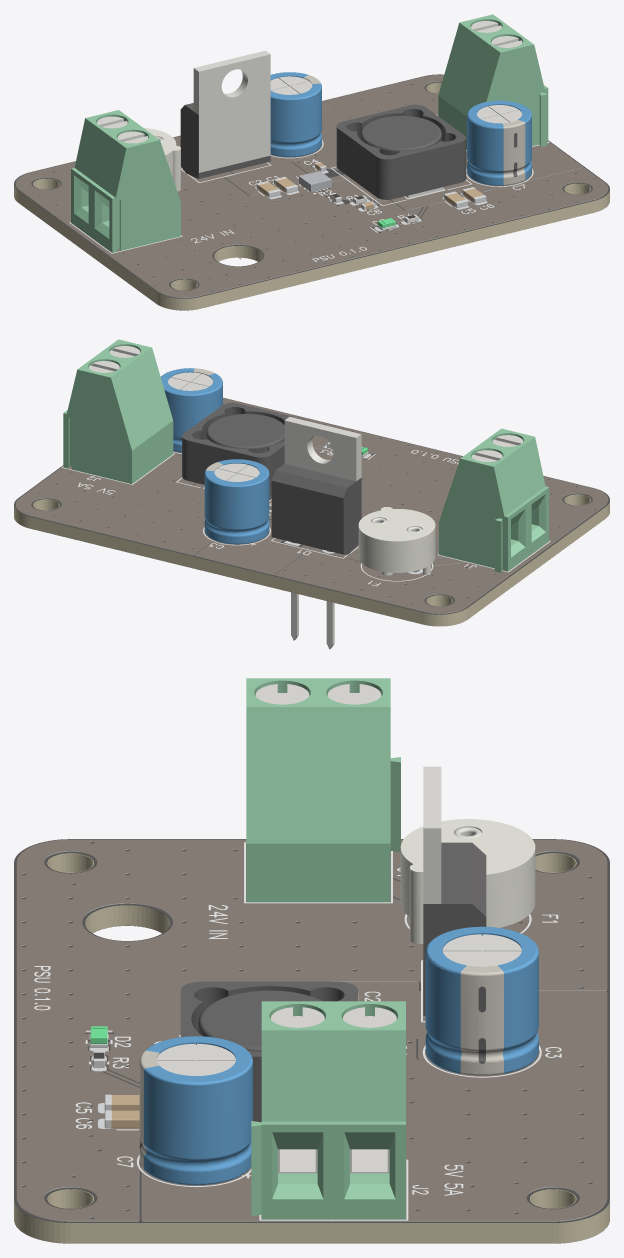
File: psu.glb
3 renders of one model, top to bottom at view 1: azimuth 30°, elevation 25°; view 2: azimuth 150°, elevation 25°; view 3: azimuth 270°, elevation 25°, orthographic. The views are drawn at different scales.
Visible parts, largest first — view 1: F.Mask (×2), part:J1 (×2), part:L1, part:D1 (×2), part:J2 (×2), board, part:C7 (×3), part:C3 (×2), F.Cu, F.SilkS, part:F1, part:U1; view 2: F.Mask (×2), part:J2 (×2), part:J1 (×2), part:D1 (×2), board, part:L1, part:C3 (×2), part:F1, part:C7 (×2), F.SilkS, F.Cu; view 3: F.Mask (×2), part:J1 (×2), part:J2 (×2), board, part:C7 (×3), part:C3 (×3), part:F1, part:L1, part:D1 (×2), F.SilkS, F.Cu.
Boxes of the visible parts, x1,y1,x2,y2 form: F.Mask (×2): [14, 74, 609, 298]; part:J1 (×2): [71, 110, 180, 252]; part:L1: [336, 104, 466, 199]; part:D1 (×2): [180, 50, 270, 259]; part:J2 (×2): [438, 14, 548, 149]; board: [14, 82, 609, 310]; part:C7 (×3): [467, 100, 531, 185]; part:C3 (×2): [270, 72, 321, 157]; F.Cu: [19, 81, 602, 297]; F.SilkS: [69, 114, 549, 262]; part:F1: [144, 128, 180, 191]; part:U1: [299, 171, 331, 191]; F.Mask (×2): [14, 397, 609, 614]; part:J2 (×2): [63, 339, 173, 483]; part:J1 (×2): [439, 428, 548, 572]; part:D1 (×2): [271, 416, 361, 649]; board: [14, 494, 609, 626]; part:L1: [182, 402, 309, 496]; part:C3 (×2): [204, 459, 269, 544]; part:F1: [358, 507, 435, 575]; part:C7 (×2): [160, 368, 222, 452]; F.SilkS: [62, 449, 550, 586]; F.Cu: [17, 403, 606, 613]; F.Mask (×2): [14, 839, 609, 1222]; part:J1 (×2): [246, 678, 400, 902]; part:J2 (×2): [251, 1001, 405, 1219]; board: [14, 853, 609, 1243]; part:C7 (×3): [139, 1036, 252, 1185]; part:C3 (×3): [425, 926, 538, 1075]; part:F1: [400, 819, 535, 943]; part:L1: [180, 981, 357, 1122]; part:D1 (×2): [423, 766, 486, 1015]; F.SilkS: [34, 842, 561, 1221]; F.Cu: [19, 841, 606, 1221].
Bounding box in the file's own units: 0.064 × 0.0285 × 0.042.
